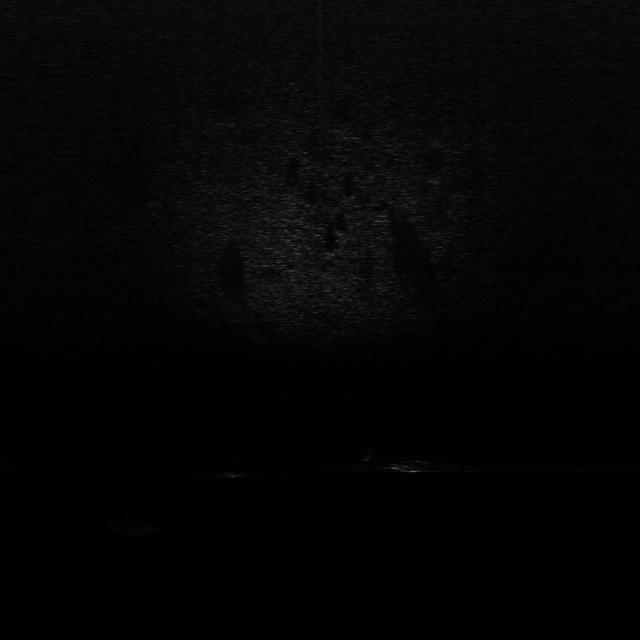ball: (220, 456, 250, 481)
circle cage: (101, 511, 160, 541)
human body: (353, 448, 443, 478)
